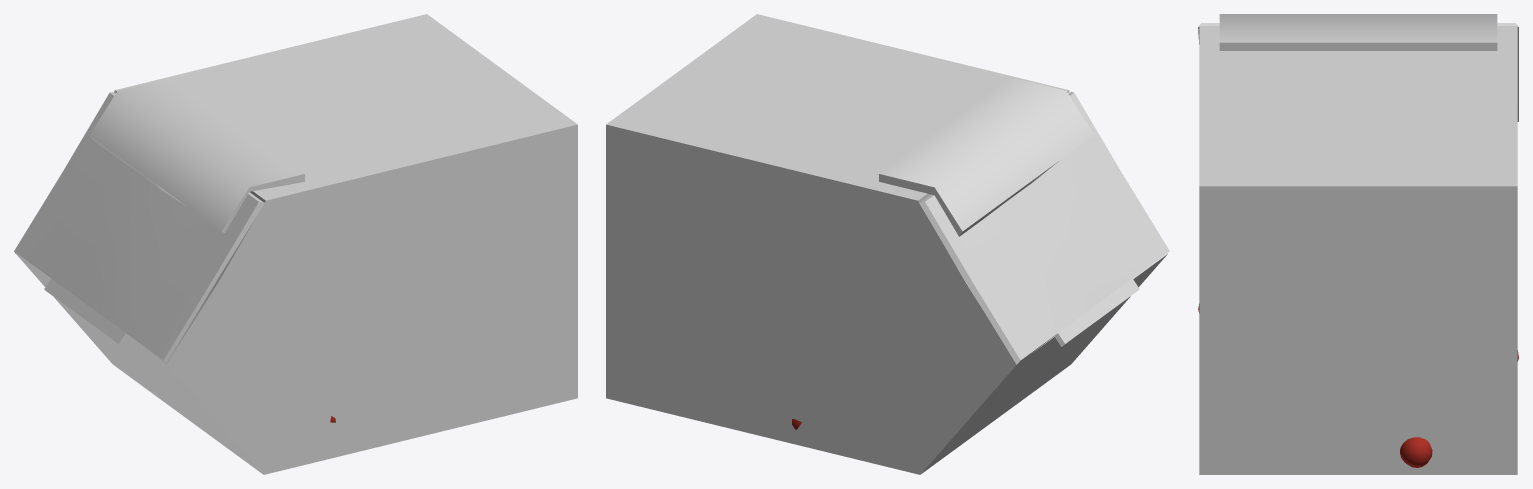
The model's file is Item_GumBallsVar_2.fbx.
3 views of the same model, side by side, from view 1: azimuth 30°, elevation 25°; view 2: azimuth 150°, elevation 25°; view 3: azimuth 270°, elevation 25° (orthographic). The views are drawn at different scales.
Visible parts, largest first — view 1: Item_GumBallsVar_2; view 2: Item_GumBallsVar_2; view 3: Item_GumBallsVar_2.
Part boxes in pixels (x1,y1,x2,y2): Item_GumBallsVar_2: (14, 14, 577, 474); Item_GumBallsVar_2: (606, 14, 1169, 474); Item_GumBallsVar_2: (1198, 14, 1518, 474).
Bounding box in the file's own units: 73.46 × 46.76 × 44.9.
2 materials, 1 textured.
